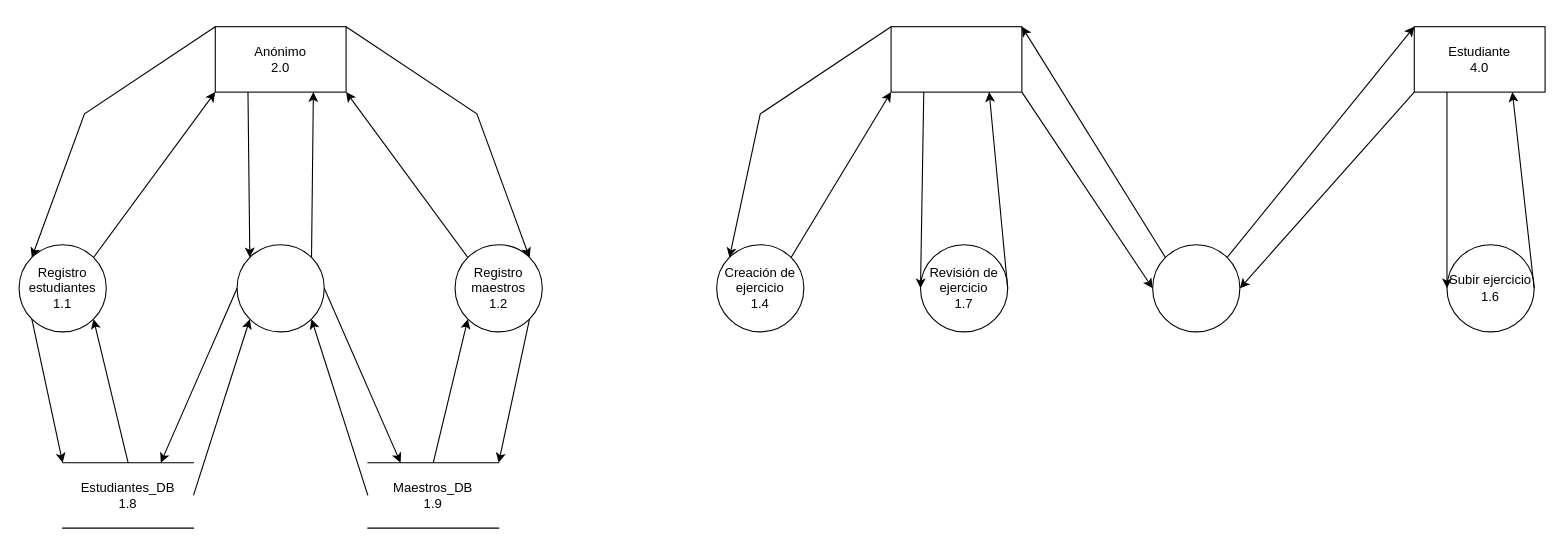
Some shapes in this 1564 by 547 pixel diagram are drawn without their labels. The centre of each missing label's shape, as x and y in pixels:
"Autenticación de usuarios 1.3" goes at [280,288].
"Lista de ejercicios 1.5" goes at [1196,288].
"Maestro 3.0" goes at [956,59].
